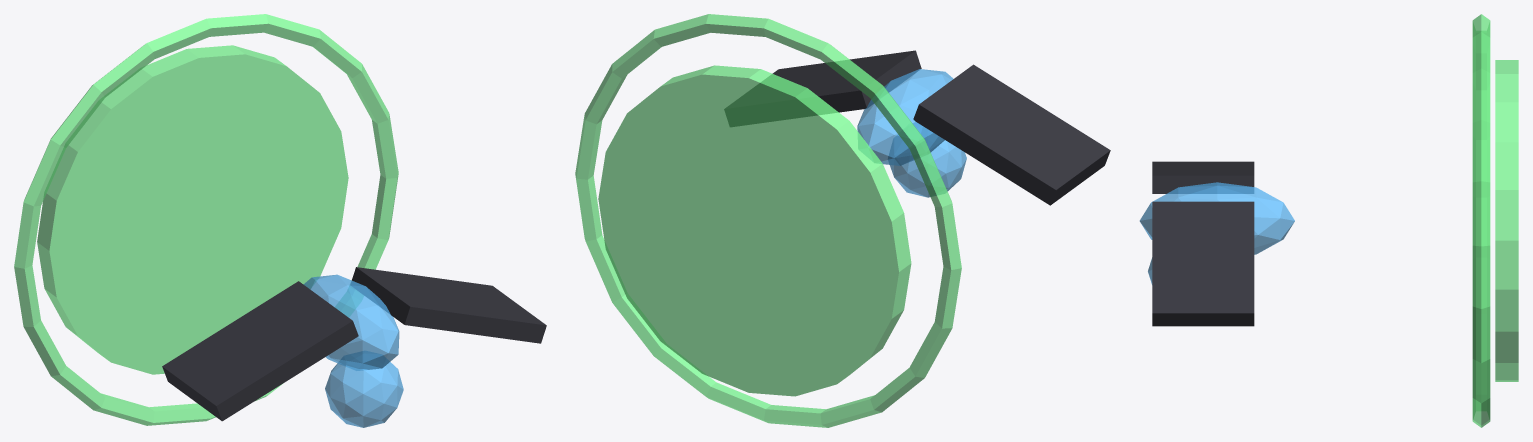
The model's file is 04_bird_critter.glb.
3 renders of one model, left to right at view 1: azimuth 30°, elevation 25°; view 2: azimuth 150°, elevation 25°; view 3: azimuth 270°, elevation 25°, orthographic. The views are drawn at different scales.
Parts seen in each view (by area): view 1: base_disc, base_ring, wing_l, wing_r, body, head; view 2: base_disc, base_ring, wing_l, wing_r, body, head; view 3: wing_r, base_ring, base_disc, body, wing_l.
Boxes of the visible parts, <box> form: base_disc: <box>37,45,348,374</box>; base_ring: <box>14,14,398,425</box>; wing_l: <box>162,281,358,421</box>; wing_r: <box>351,267,546,343</box>; body: <box>303,274,399,370</box>; head: <box>325,351,403,427</box>; base_disc: <box>598,65,911,396</box>; base_ring: <box>575,14,961,427</box>; wing_l: <box>913,64,1110,205</box>; wing_r: <box>724,50,921,126</box>; body: <box>857,69,953,165</box>; head: <box>888,123,966,197</box>; wing_r: <box>1152,201,1254,326</box>; base_ring: <box>1472,14,1490,427</box>; base_disc: <box>1495,60,1518,381</box>; body: <box>1139,182,1294,254</box>; wing_l: <box>1152,161,1254,193</box>.
Size of the model in its own units: 0.9 by 0.9 by 0.818.
